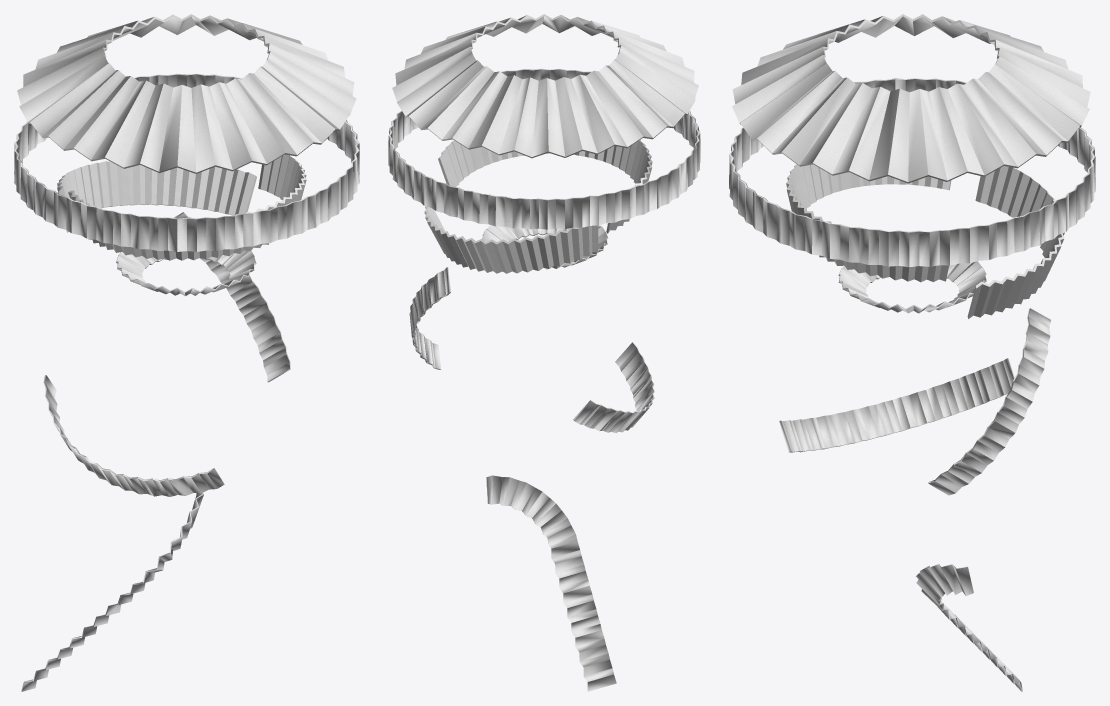
The model's file is Couronne+Bras.gltf.
3 views of the same model, side by side, from view 1: azimuth 30°, elevation 25°; view 2: azimuth 150°, elevation 25°; view 3: azimuth 270°, elevation 25° (orthographic). The views are drawn at different scales.
Parts seen in each view (by area): view 1: Couronne_1.001, Couronne_1.003, Couronne_1.007, Couronne_1.004, Couronne_1, Couronne_1.006, Bras.003, Couronne_1.005; view 2: Couronne_1.001, Couronne_1.003, Bras.003, Couronne_1.007, Couronne_1, Couronne_1.006, Couronne_1.004, Couronne_1.005; view 3: Couronne_1.001, Couronne_1.003, Couronne_1.006, Couronne_1.007, Couronne_1.004, Couronne_1, Bras.003, Couronne_1.005.
Boxes of the visible parts, x1,y1,x2,y2 form: Couronne_1.001: (17,14,356,173); Couronne_1.003: (14,73,359,251); Couronne_1.007: (57,161,256,232); Couronne_1.004: (173,212,290,382); Couronne_1: (68,154,306,260); Couronne_1.006: (43,375,224,496); Bras.003: (21,493,203,691); Couronne_1.005: (116,250,256,296); Couronne_1.001: (392,14,698,158); Couronne_1.003: (388,68,700,229); Bras.003: (486,475,616,691); Couronne_1.007: (424,206,598,273); Couronne_1: (438,139,652,233); Couronne_1.006: (573,342,654,432); Couronne_1.004: (409,267,450,369); Couronne_1.005: (482,225,608,269); Couronne_1.001: (732,14,1090,183); Couronne_1.003: (729,78,1095,267); Couronne_1.006: (779,358,1014,452); Couronne_1.007: (967,166,1064,318); Couronne_1.004: (928,308,1050,495); Couronne_1: (786,164,951,282); Bras.003: (916,564,1022,691); Couronne_1.005: (838,261,986,313).
Size of the model in its own units: 129 by 269 by 129.
Materials: 1 (1 with a texture image).
